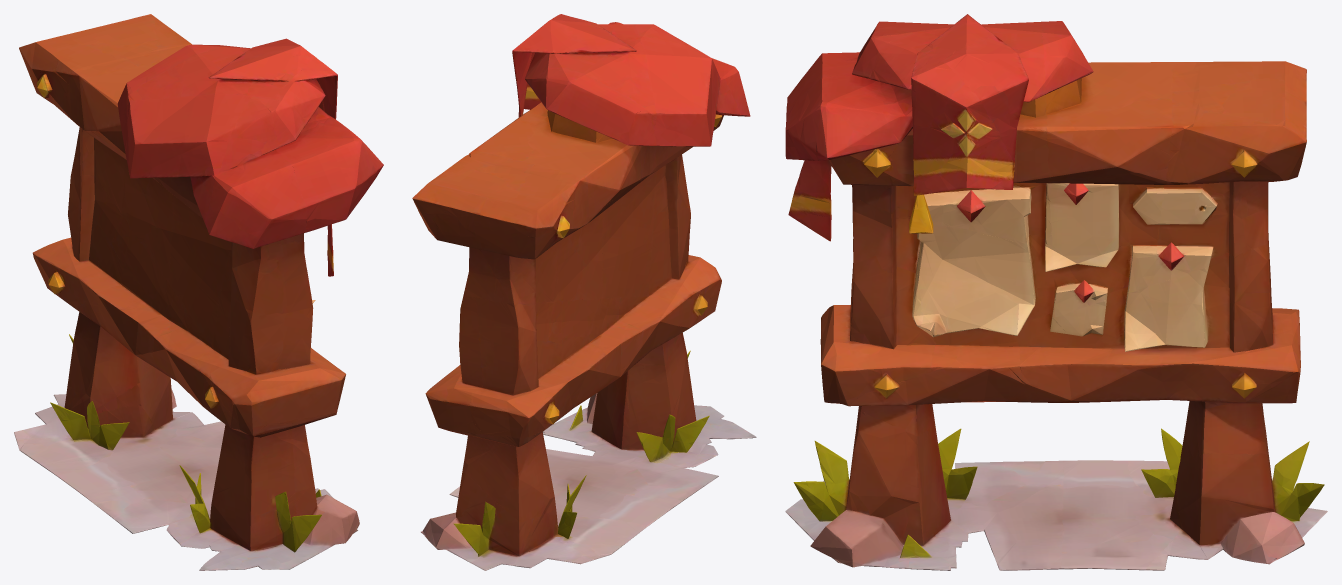
The model's file is KeepSakeNoticeBoard.glb.
3 renders of one model, left to right at view 1: azimuth 30°, elevation 25°; view 2: azimuth 150°, elevation 25°; view 3: azimuth 270°, elevation 25°, orthographic. The views are drawn at different scales.
Parts seen in each view (by area): view 1: tripo_node_7eb6965b-9055-42ae-b027-1d73638f1370; view 2: tripo_node_7eb6965b-9055-42ae-b027-1d73638f1370; view 3: tripo_node_7eb6965b-9055-42ae-b027-1d73638f1370.
Boxes of the visible parts, left/top/right/bottom form: tripo_node_7eb6965b-9055-42ae-b027-1d73638f1370: left=14, top=14, right=383, bottom=570; tripo_node_7eb6965b-9055-42ae-b027-1d73638f1370: left=412, top=14, right=756, bottom=570; tripo_node_7eb6965b-9055-42ae-b027-1d73638f1370: left=785, top=14, right=1327, bottom=570.
Bounding box in the file's own units: 0.4753 × 0.9797 × 0.9471.
1 material, 1 textured.
